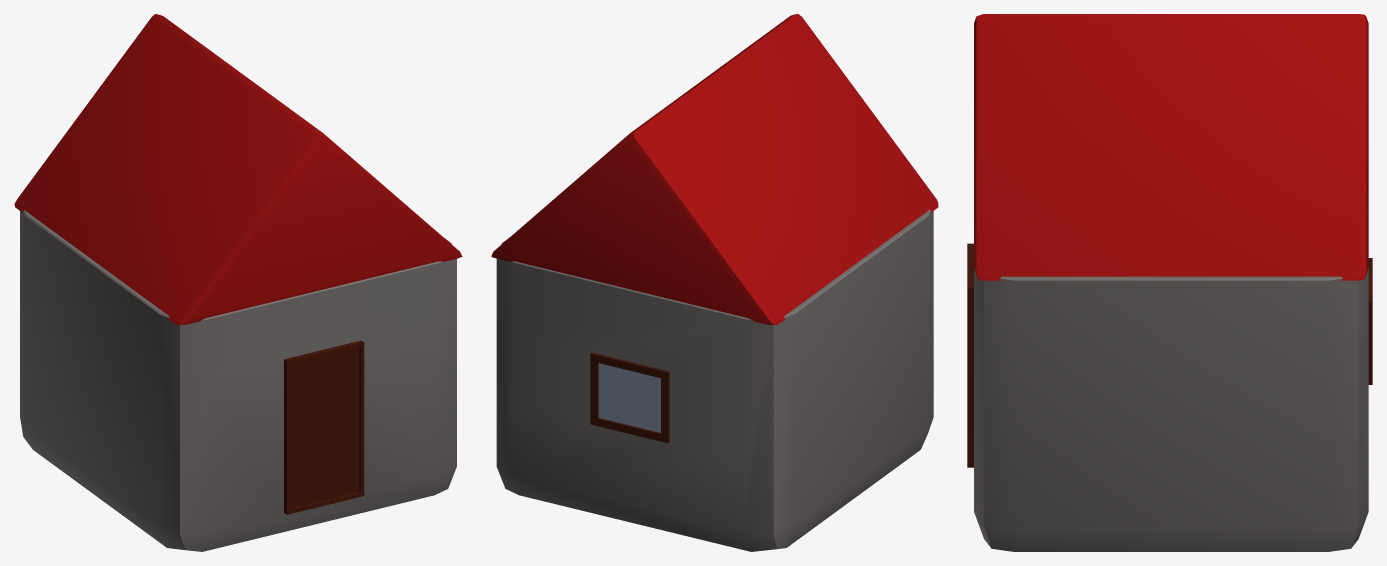
The model's file is House.FBX.
3 renders of one model, left to right at view 1: azimuth 30°, elevation 25°; view 2: azimuth 150°, elevation 25°; view 3: azimuth 270°, elevation 25°, orthographic. The views are drawn at different scales.
Parts seen in each view (by area): view 1: Box001, Box002, Object004, Object001; view 2: Box001, Box002, Object003, Object002; view 3: Box001, Box002, Object001, Object002.
Part boxes in pixels (x1,y1,x2,y2): Box001: (20,210,456,551); Box002: (14,14,462,325); Object004: (290,347,359,508); Object001: (284,340,364,514); Box001: (496,210,933,551); Box002: (491,14,938,324); Object003: (598,363,660,432); Object002: (590,352,669,443); Box001: (974,267,1368,551); Box002: (974,14,1368,280); Object001: (967,243,973,467); Object002: (1368,258,1372,384).
Bounding box in the file's own units: 2.5 × 3.27 × 2.57.
